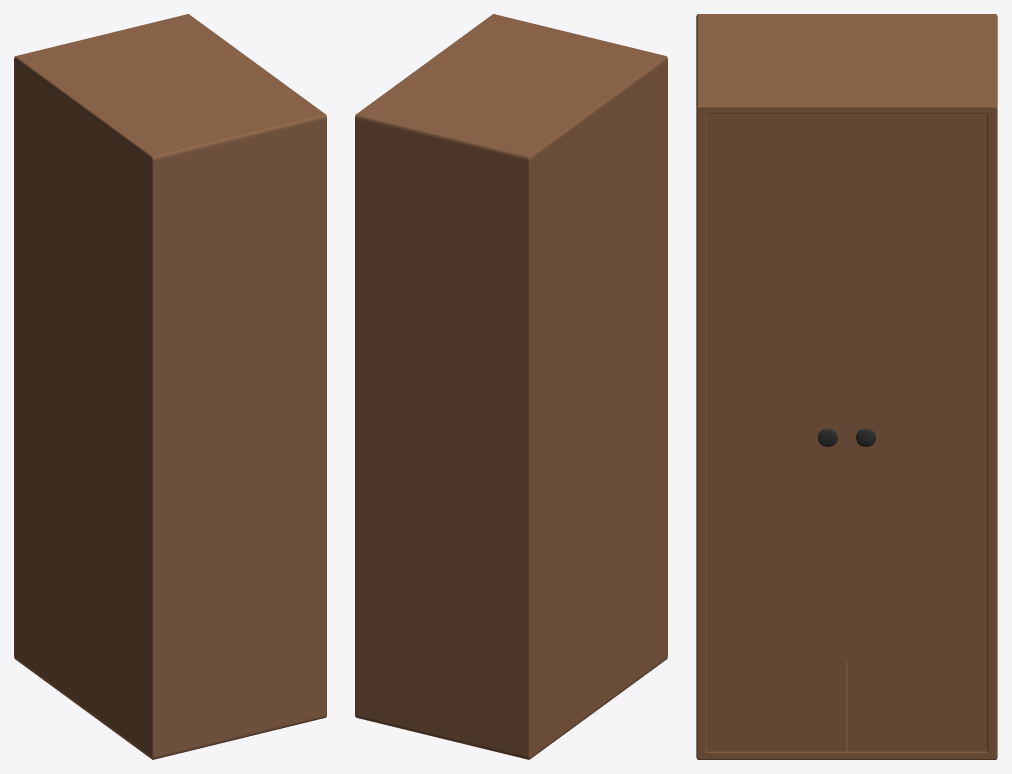
The model's file is compressed_TwoDoorWardrobe.glb.
3 renders of one model, left to right at view 1: azimuth 30°, elevation 25°; view 2: azimuth 150°, elevation 25°; view 3: azimuth 270°, elevation 25°, orthographic. The views are drawn at different scales.
Parts seen in each view (by area): view 1: Cube; view 2: Cube; view 3: Cube.001, Cube, Cube.004.
Part boxes in pixels (x1,y1,x2,y2): Cube: [14, 14, 326, 759]; Cube: [355, 14, 667, 759]; Cube.001: [707, 114, 986, 751]; Cube: [696, 14, 997, 759]; Cube.004: [818, 428, 875, 446].
Size of the model in its own units: 0.6438 by 2.01 by 0.8382.
